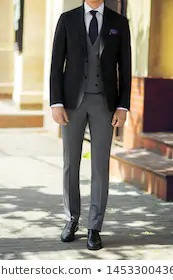F_dress pants: (60, 87, 116, 233)
